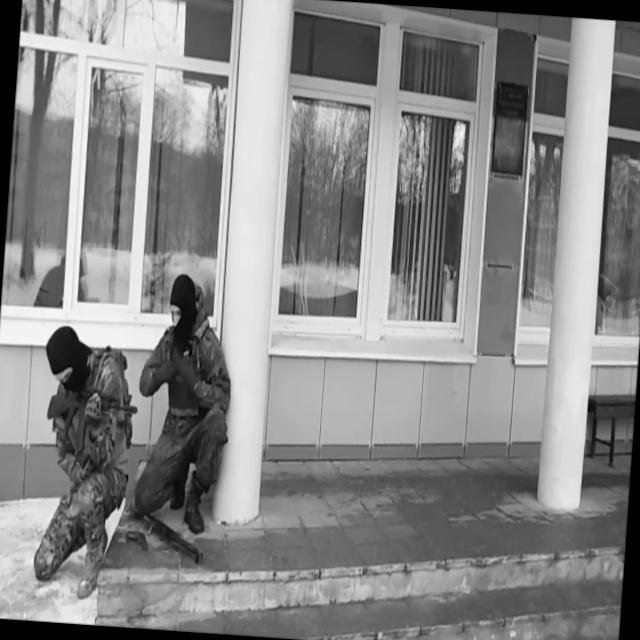gun: (44, 388, 138, 461), (125, 505, 208, 565), (124, 529, 150, 552)
person with a gun: (28, 323, 143, 604), (132, 268, 238, 534)
